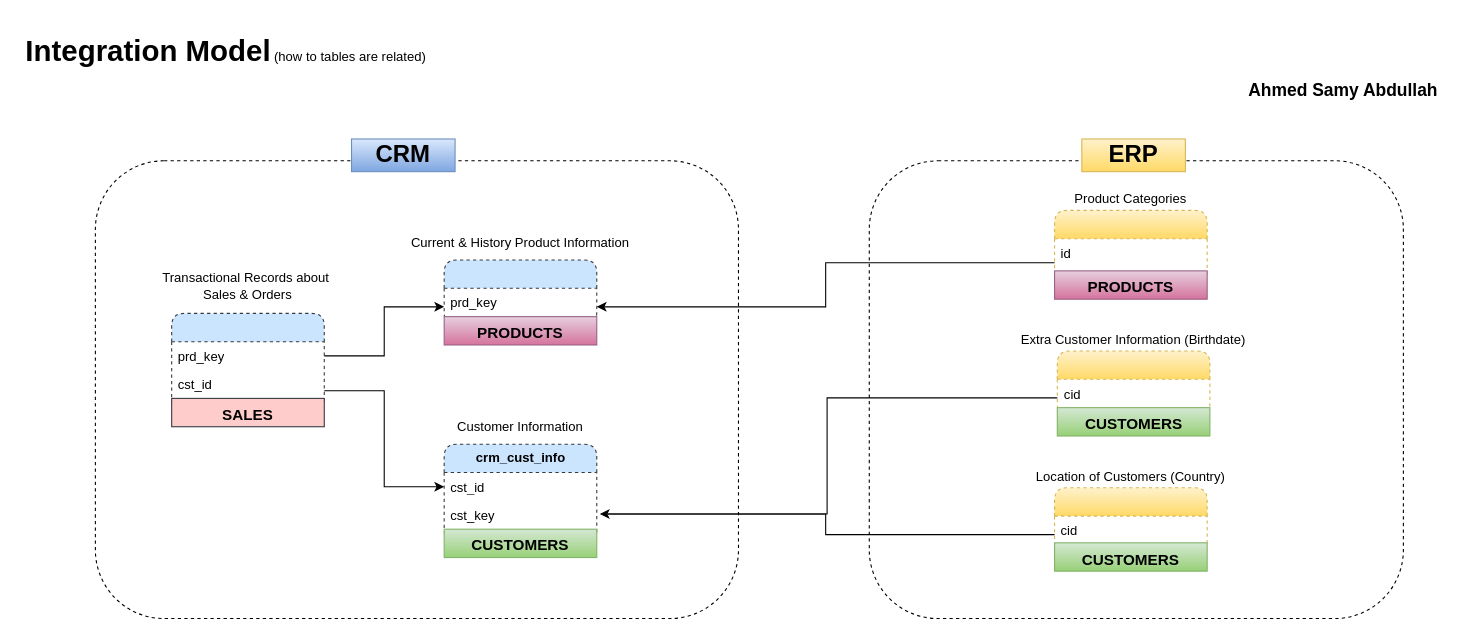
Some shapes in this 1465 by 638 pixel diagram are drawn without their labels. Here are the shapes that lost their labels. From the top down, the box of each, then its label:
(1053, 209, 1207, 287): erp_px_cat_g1v2
(443, 259, 597, 325): crm_prd_info
(171, 312, 324, 411): crm_sales_details
(1056, 350, 1210, 416): erp_cust_az12
(1053, 487, 1207, 553): erp_loc_a101
